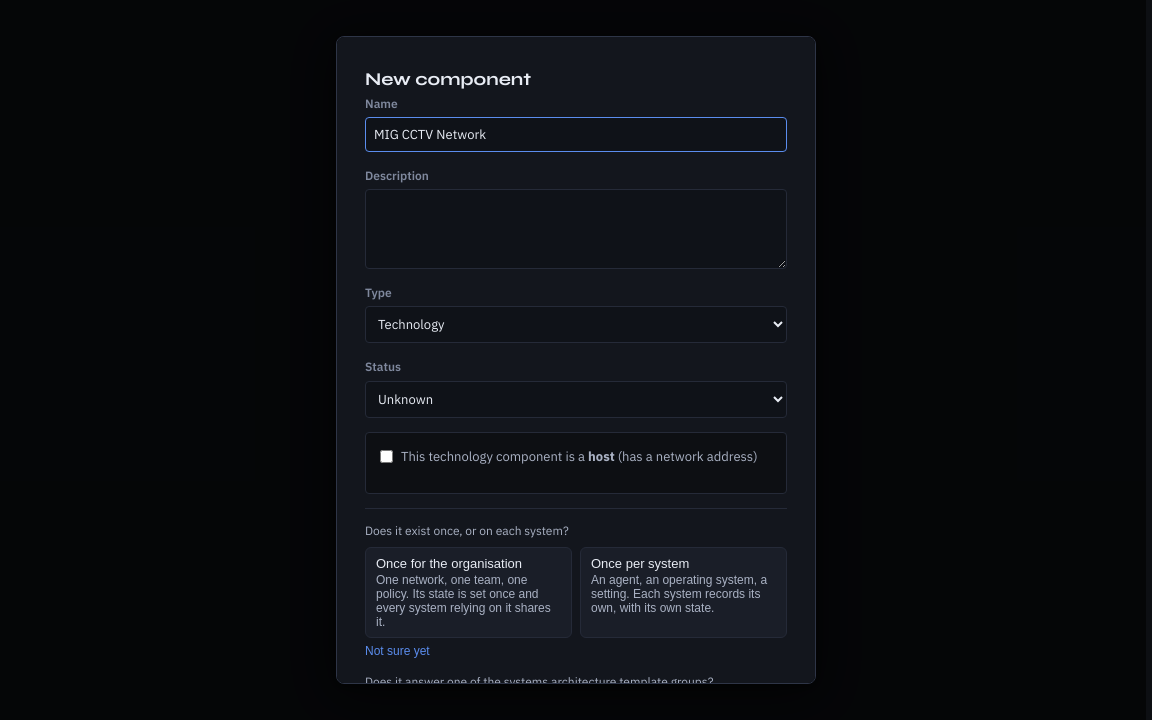
it: the one panel a component is created from › it cannot be created until both questions are answered
Click the button "Once for the organisation": click(468, 592) [365,546,572,638]
(page scrolled)
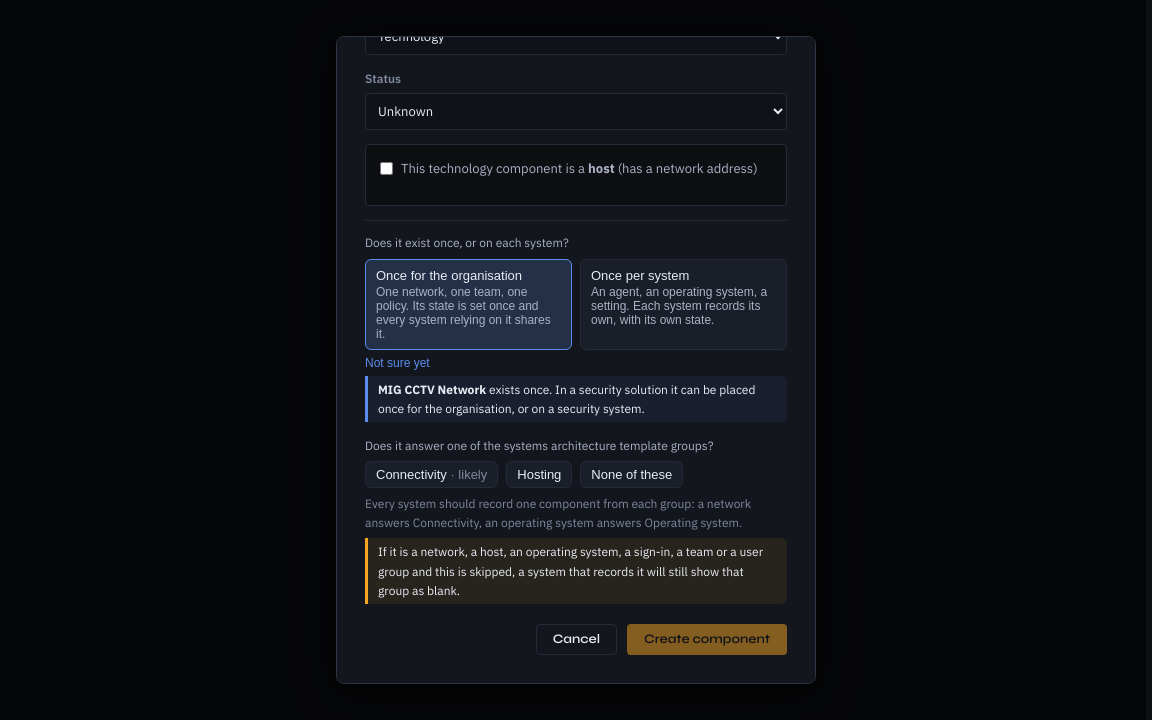
Expected: the button "Create component" is disabled, [627,624,787,655]
Click the button "Connectivity · likely": click(432, 475) [365,461,498,488]
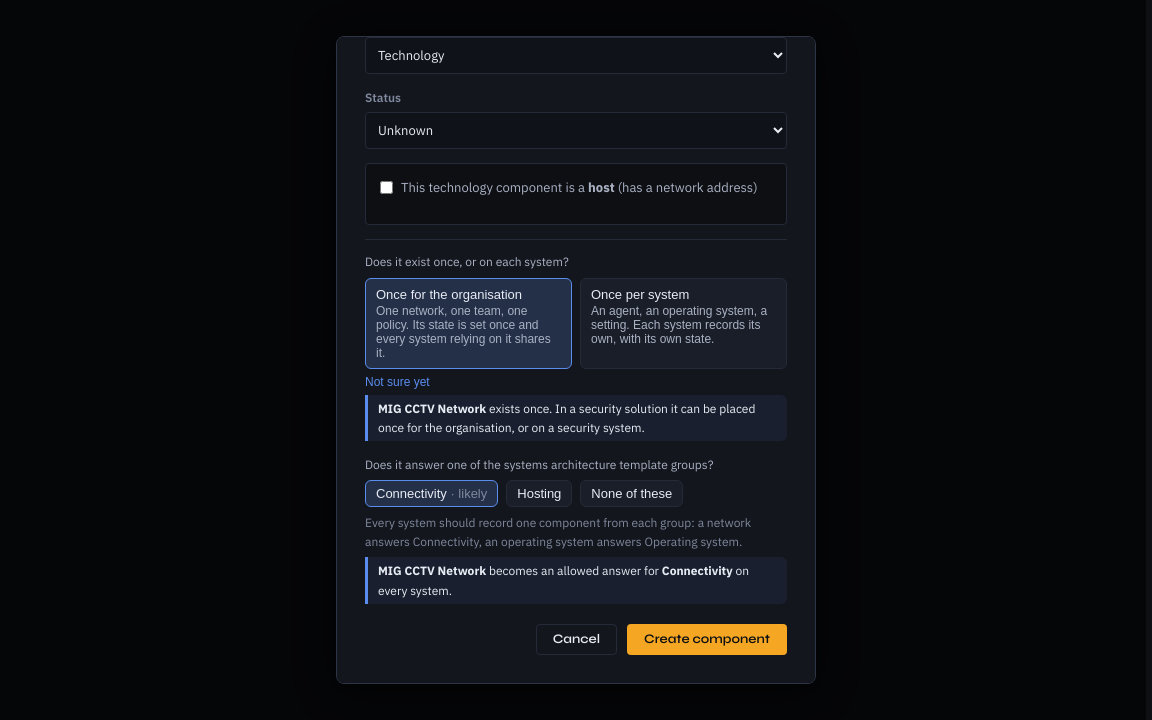
Expected: the button "Create component" is enabled, [627,624,787,655]
